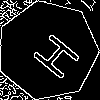H: (23, 25, 83, 82)
